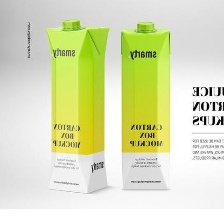carton: (37, 18, 112, 198), (118, 21, 173, 191)
